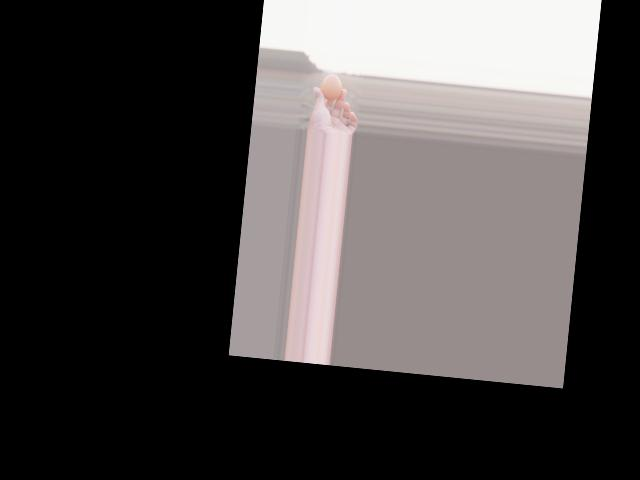egg: (320, 73, 343, 100)
